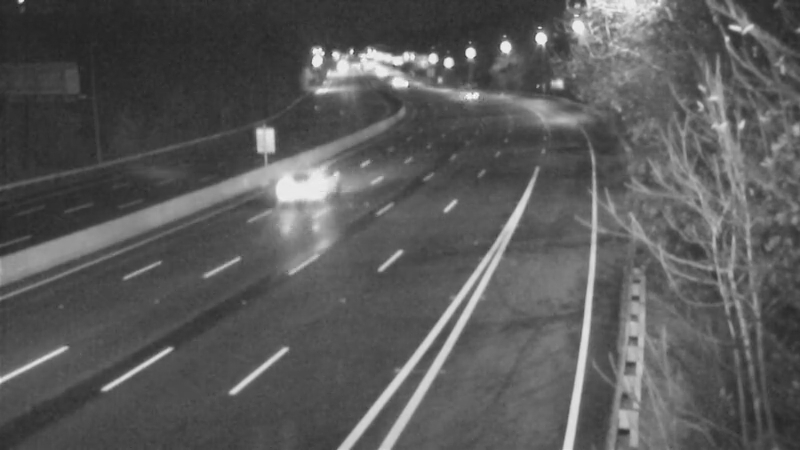vehicle: (271, 151, 351, 231), (446, 69, 496, 119)
